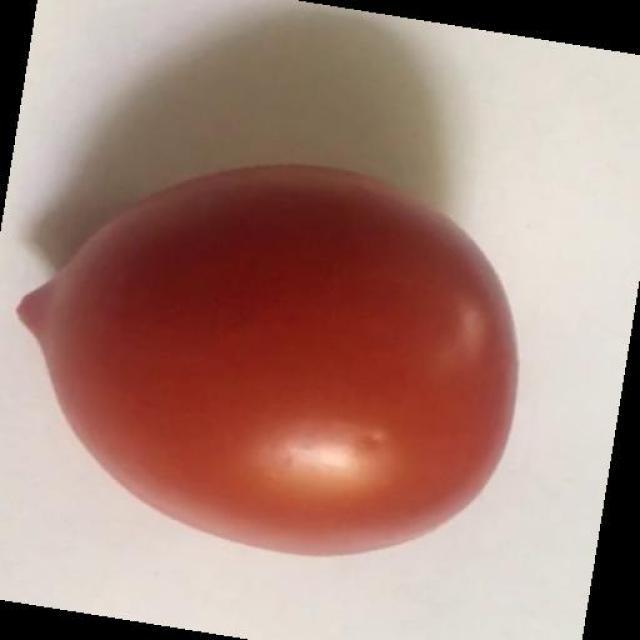Fresh Tomato: (9, 149, 542, 577)
